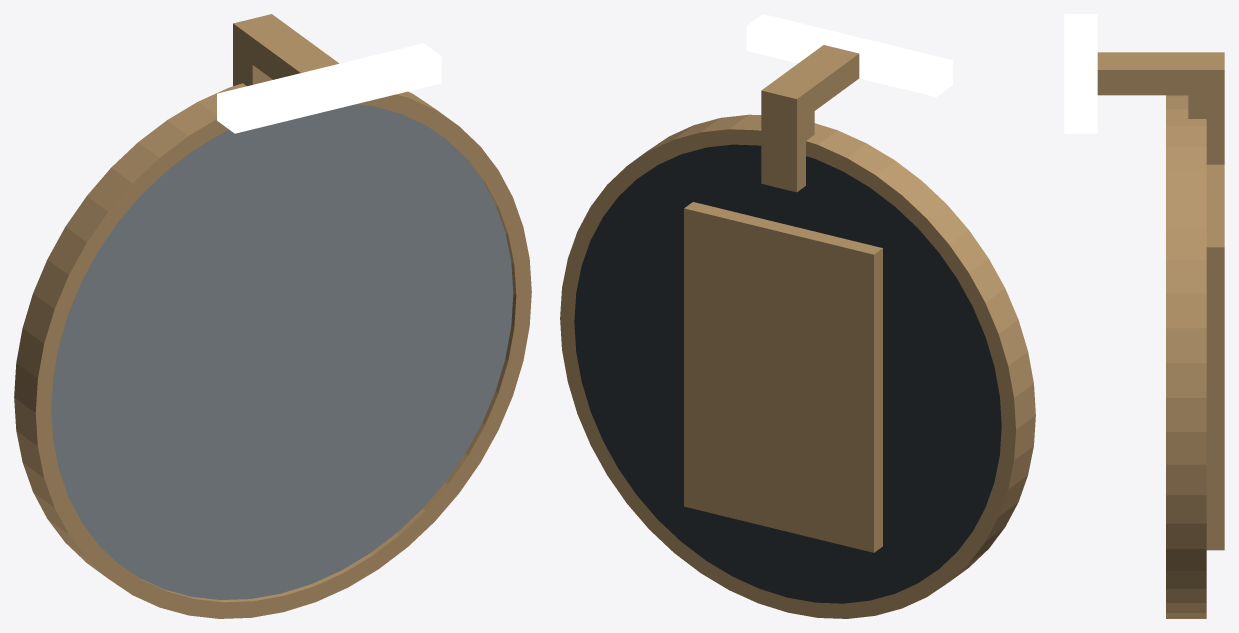
File: before-round.glb
3 renders of one model, left to right at view 1: azimuth 30°, elevation 25°; view 2: azimuth 150°, elevation 25°; view 3: azimuth 270°, elevation 25°, orthographic. The views are drawn at different scales.
Visible parts, largest first — view 1: makeup-face-center, makeup-frame-center, makeup-lamp, makeup-lamp-arm, makeup-lamp-riser; view 2: makeup-back-center, makeup-wall-mount, makeup-frame-center, makeup-lamp, makeup-lamp-arm, makeup-lamp-riser; view 3: makeup-frame-center, makeup-wall-mount, makeup-lamp-arm, makeup-lamp, makeup-lamp-riser.
Part boxes in pixels (x1,y1,x2,y2): makeup-face-center: [51, 104, 513, 599]; makeup-frame-center: [14, 83, 531, 618]; makeup-lamp: [217, 43, 441, 133]; makeup-lamp-arm: [233, 14, 338, 79]; makeup-lamp-riser: [233, 50, 272, 86]; makeup-back-center: [574, 144, 1001, 603]; makeup-wall-mount: [684, 202, 882, 552]; makeup-frame-center: [560, 114, 1035, 618]; makeup-lamp: [746, 14, 952, 96]; makeup-lamp-arm: [761, 45, 859, 123]; makeup-lamp-riser: [761, 111, 814, 192]; makeup-frame-center: [1166, 95, 1206, 618]; makeup-wall-mount: [1206, 164, 1224, 550]; makeup-lamp-arm: [1097, 52, 1224, 95]; makeup-lamp: [1064, 14, 1097, 133]; makeup-lamp-riser: [1188, 95, 1224, 164].
Size of the model in its own units: 0.3841 by 0.422 by 0.115.
